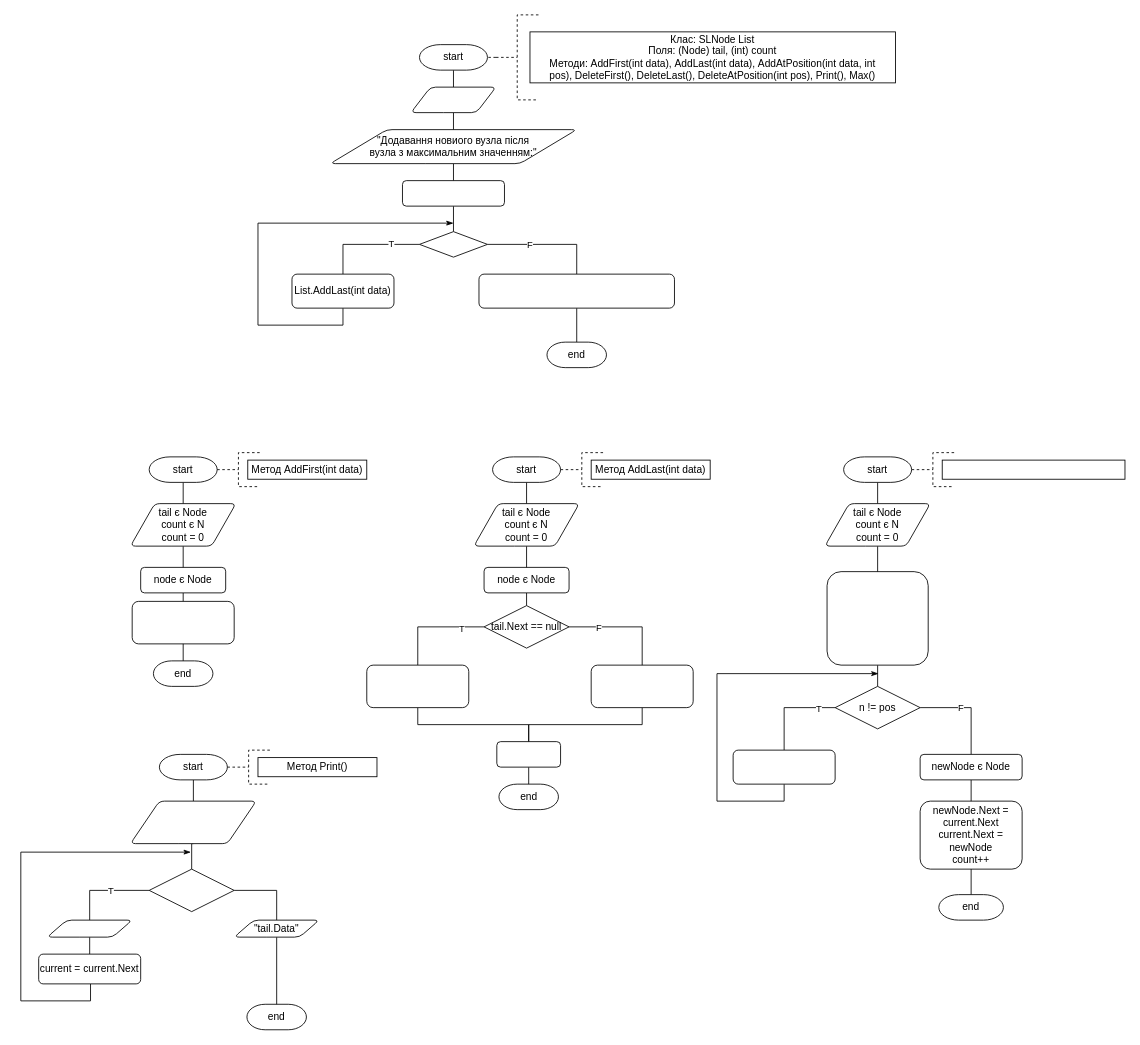
Image size: 1140x1045. Some labels were removed from this diagram. The shapes that lost their labels are listed below. From the top down, each one's box as (x1, y1, x2, y2) in pixels, then its label:
(410, 86, 496, 113): SLNode List
(402, 180, 504, 206): n є N i = 0
(419, 231, 487, 257): i < n
(478, 273, 674, 308): List.Print() List.AddAtPosition(int data,List.Max()) List.Print()
(941, 459, 1125, 479): Метод AddAtPosition(int data, int pos)
(131, 601, 234, 644): node.Next = tail.Next tail.Next = node count++
(826, 571, 928, 665): node є Node n є N n = 0 current є Node current = tail.Next
(366, 664, 469, 708): tail.Next = node tail = node;
(590, 664, 693, 708): node.Next = tail.Next tail.Next = node tail = node
(496, 741, 561, 767): count++
(732, 749, 835, 784): current = current.Next n++
(130, 800, 256, 844): current є Node count = tail.Next
(148, 868, 234, 912): current != tail
(46, 919, 132, 937): "current.Data"
